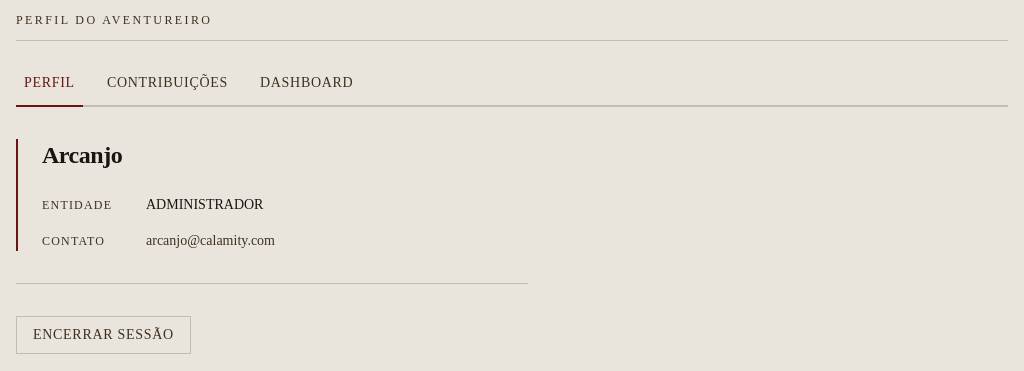
Test: ProfilePage › mostra a aba Dashboard para admin e renderiza AdminDashboardView ao clicar
Click the button "Dashboard". click: (307, 90)
box: [252,73,361,107]
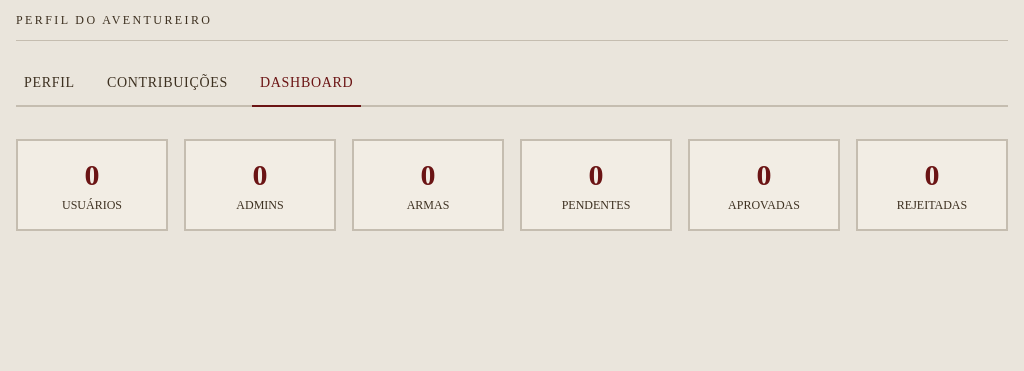
Check: the text "Usuários" is shown, box [62,198,122,212]
